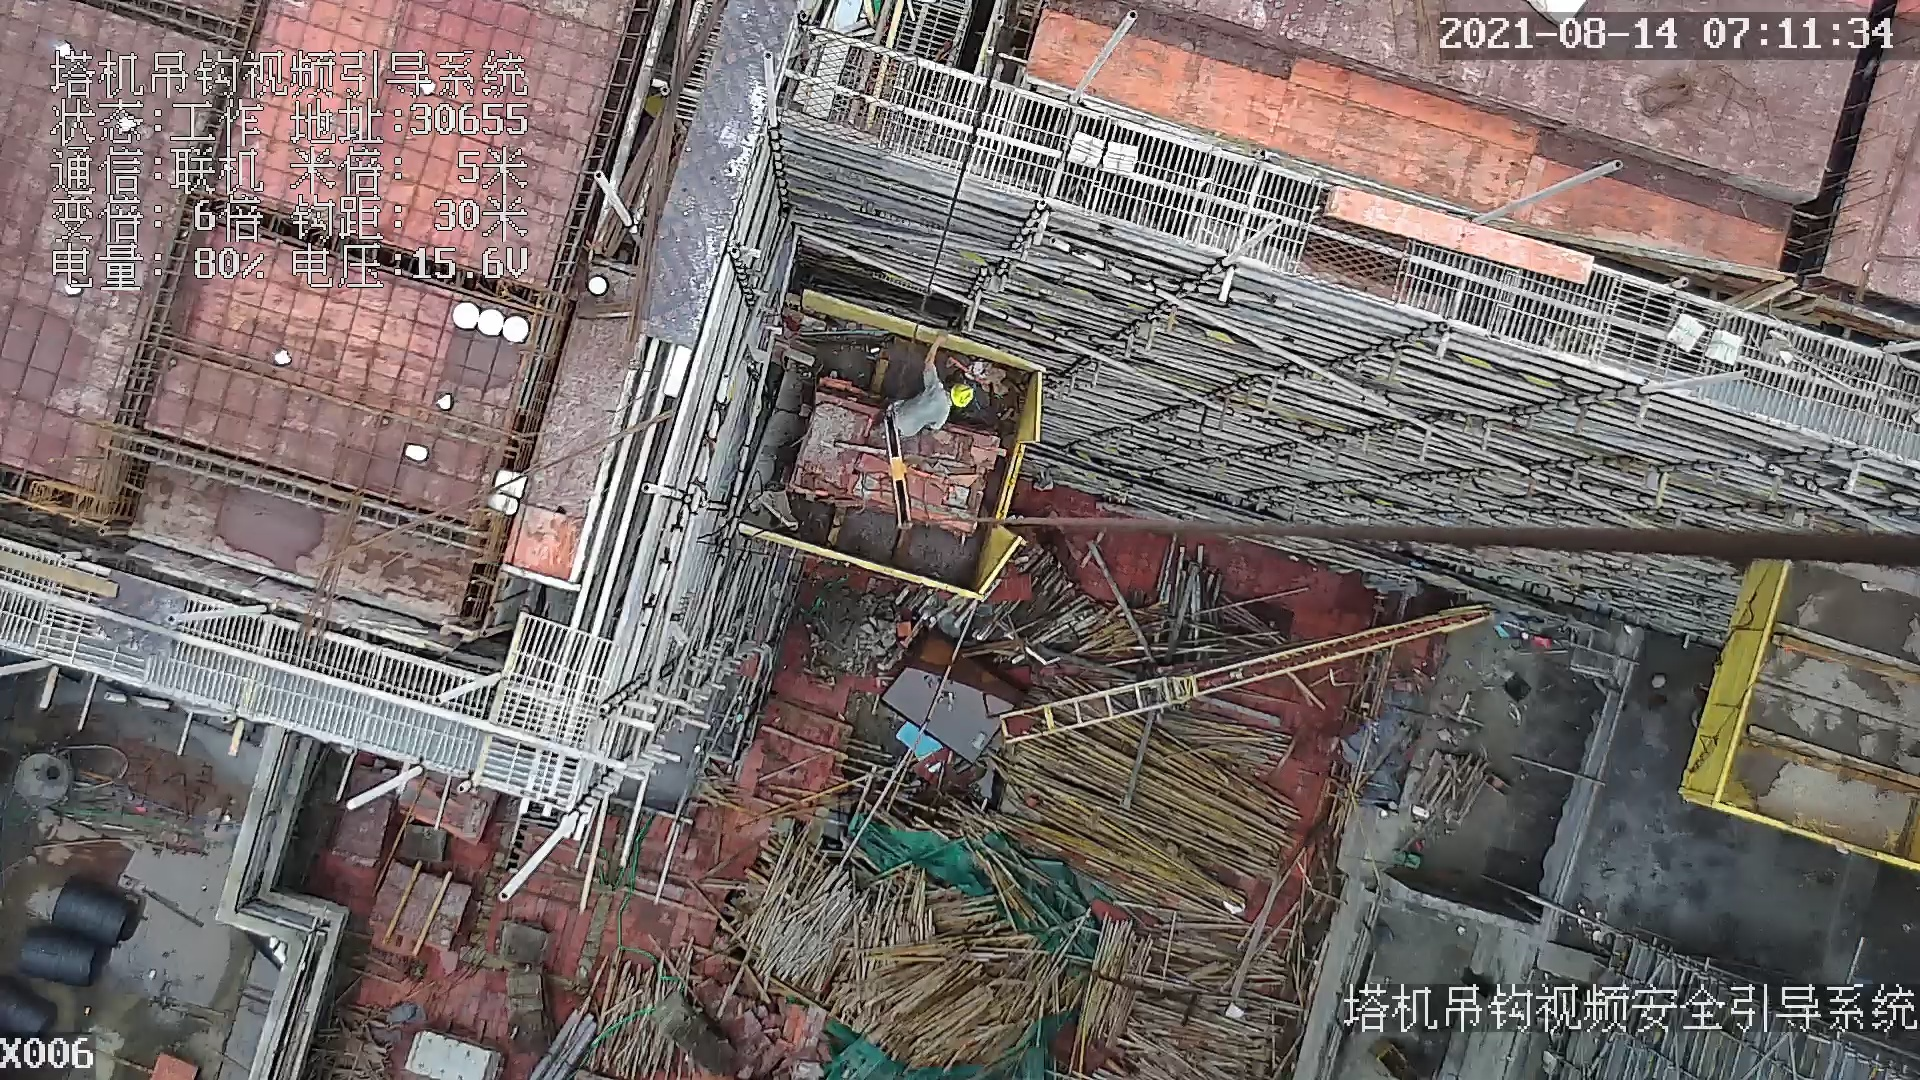helmet: (948, 375, 974, 405)
hook: (874, 409, 919, 532)
person: (900, 339, 970, 444)
